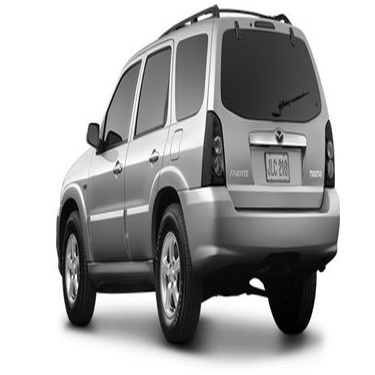car: (45, 1, 342, 340)
